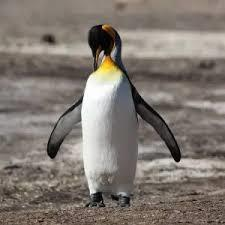king: (43, 14, 179, 199)
